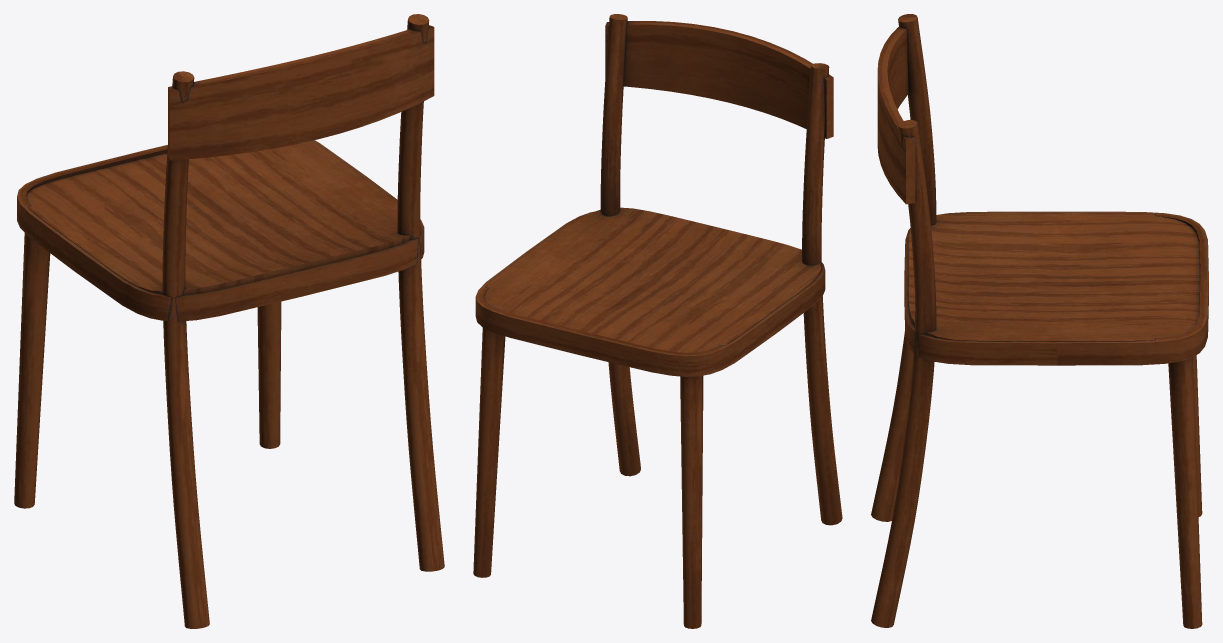
Rendered from chair_vienna_web.glb.
The picture shows the model from 3 angles, left to right: view 1: azimuth 30°, elevation 25°; view 2: azimuth 150°, elevation 25°; view 3: azimuth 270°, elevation 25°; orthographic projection. The views are drawn at different scales.
Parts seen in each view (by area): view 1: ChairVienna_Mesh; view 2: ChairVienna_Mesh; view 3: ChairVienna_Mesh.
Part boxes in pixels (x1=…): ChairVienna_Mesh: x1=14, y1=14, x2=444, y2=628; ChairVienna_Mesh: x1=473, y1=14, x2=842, y2=628; ChairVienna_Mesh: x1=871, y1=14, x2=1208, y2=628.
Bounding box in the file's own units: 0.442 × 0.7847 × 0.4792.
Materials: 1 (1 with a texture image).
